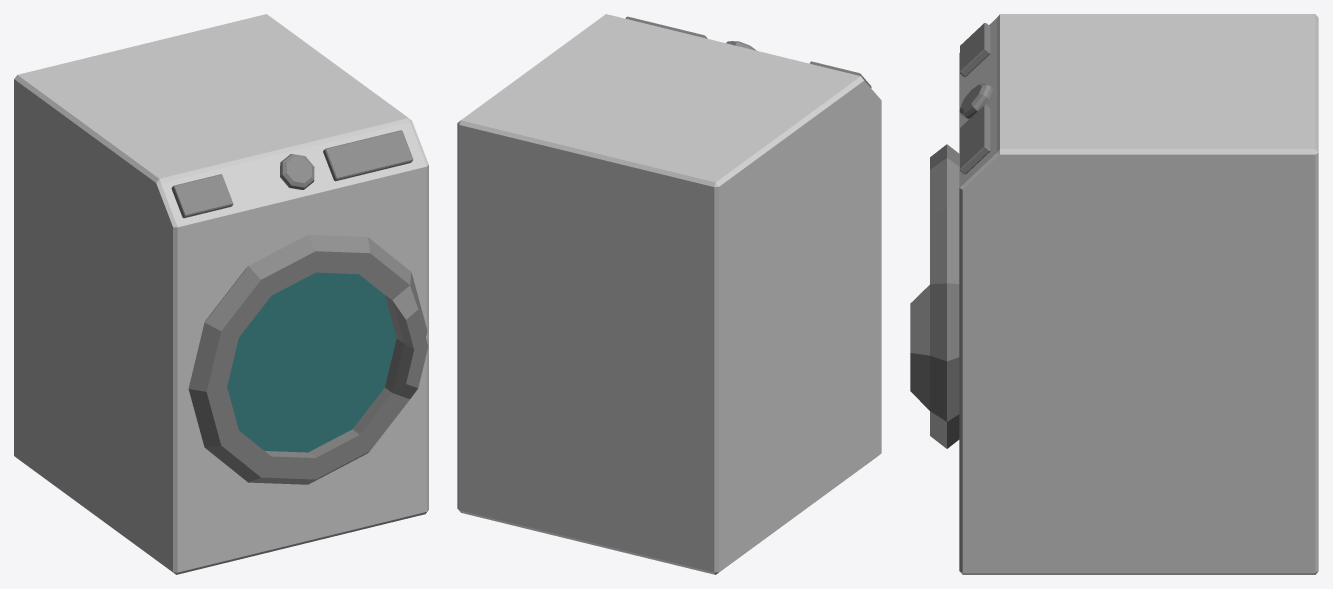
The picture shows the model from 3 angles, left to right: view 1: azimuth 30°, elevation 25°; view 2: azimuth 150°, elevation 25°; view 3: azimuth 270°, elevation 25°; orthographic projection. The views are drawn at different scales.
Visible parts, largest first — view 1: Washing machine, Washing machine.001; view 2: Washing machine; view 3: Washing machine, Washing machine.001.
Part boxes in pixels (x1=…): Washing machine: x1=14, y1=14, x2=428, y2=574; Washing machine.001: x1=188, y1=234, x2=428, y2=484; Washing machine: x1=457, y1=14, x2=881, y2=574; Washing machine: x1=959, y1=14, x2=1318, y2=574; Washing machine.001: x1=910, y1=144, x2=959, y2=448.
Bounding box in the file's own units: 3.05 × 4.37 × 3.8.
